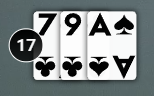7: (31, 10, 60, 38)
9: (59, 10, 86, 39)
a: (86, 10, 113, 39)
